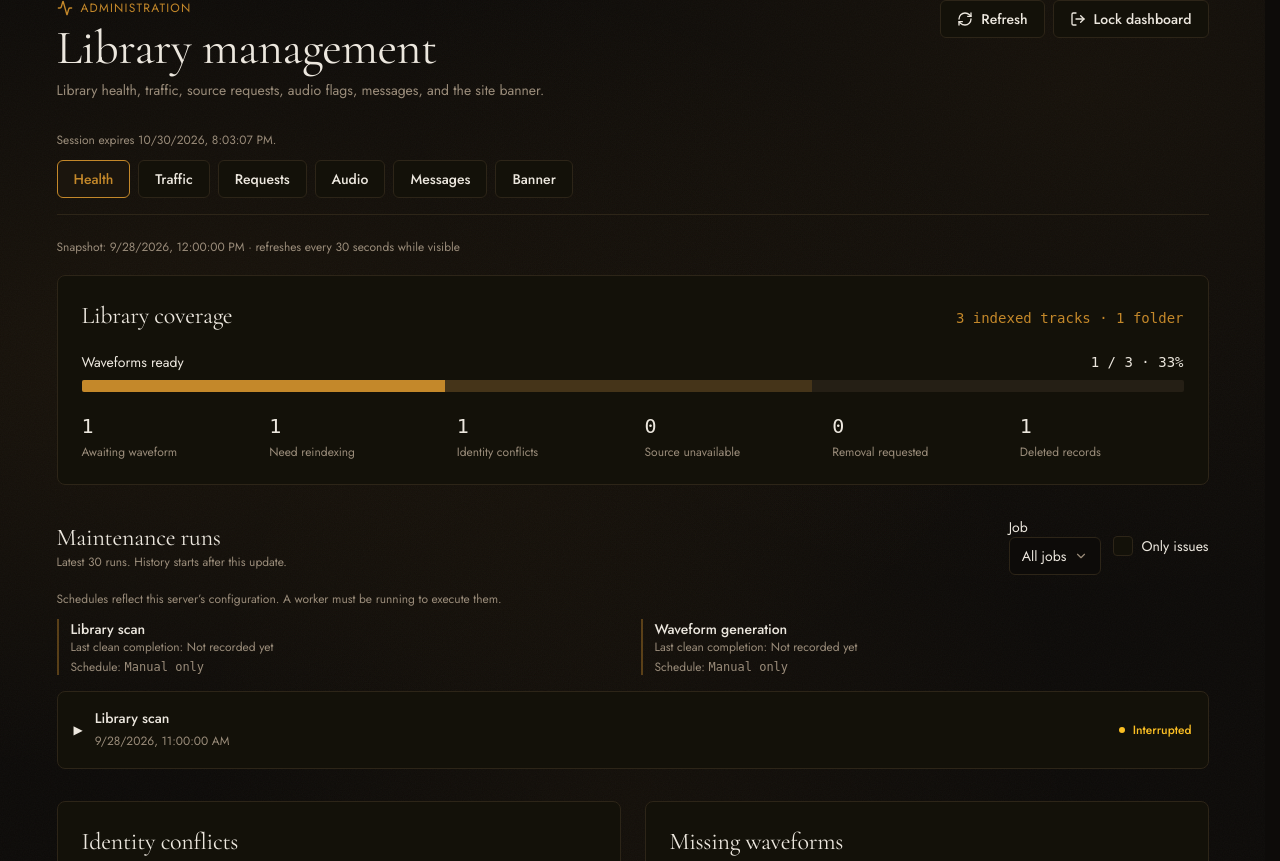
polls health only while the Health section is open and keeps the snapshot between visits
Click the button "Messages" at coordinates (440, 179), box left=394, top=160, right=487, bottom=198
Wait 90000 ms
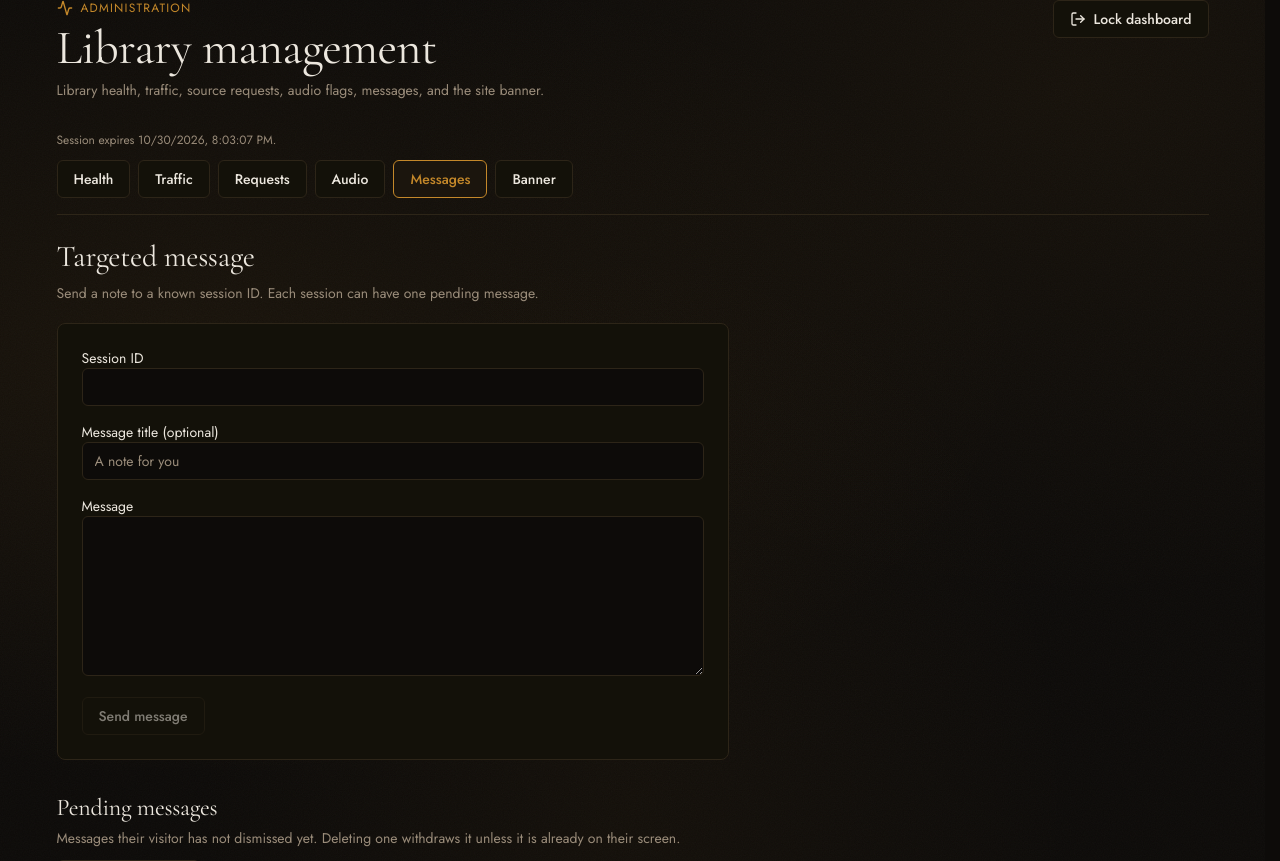
Click the button "Health" at coordinates (93, 179), box left=56, top=160, right=130, bottom=198
(page scrolled)
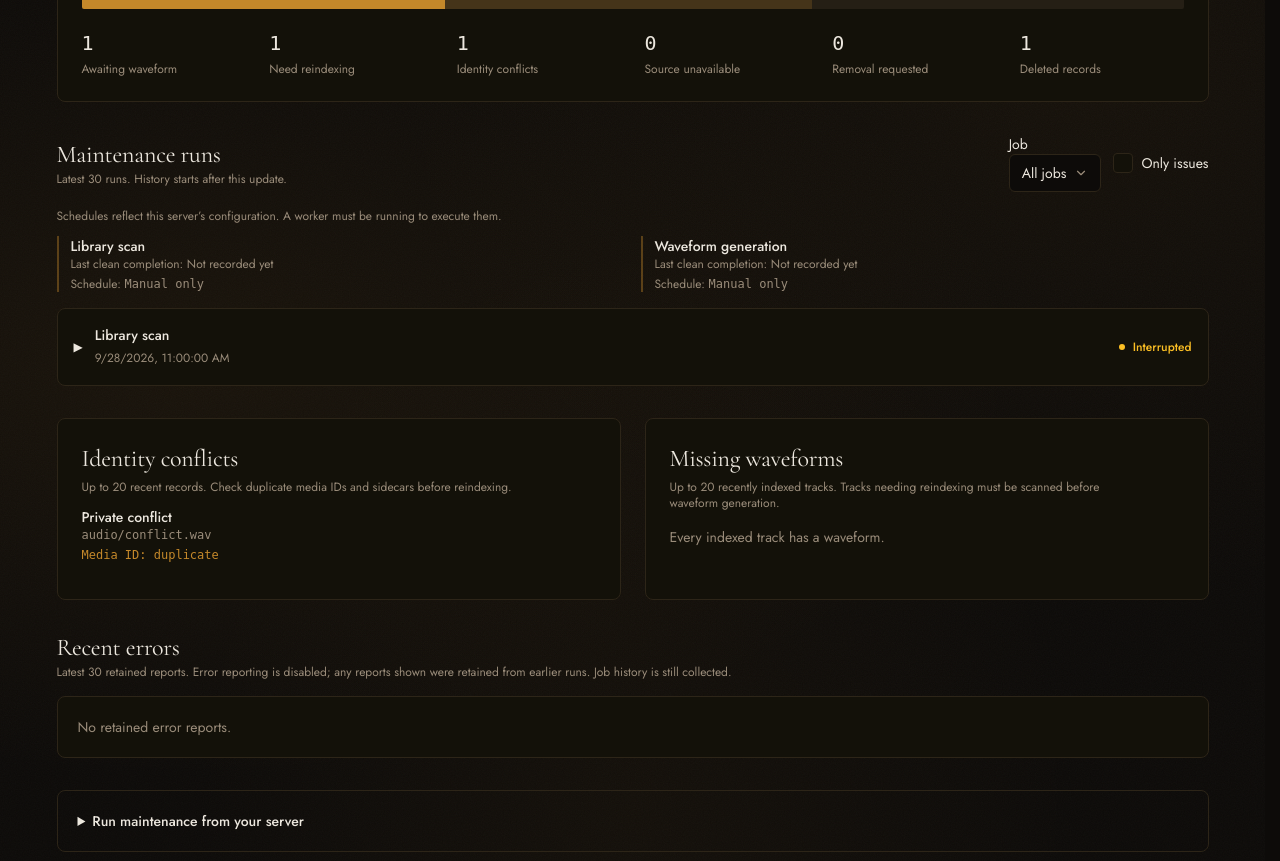
Check: the text "Private conflict" is shown, box left=82, top=507, right=172, bottom=527
